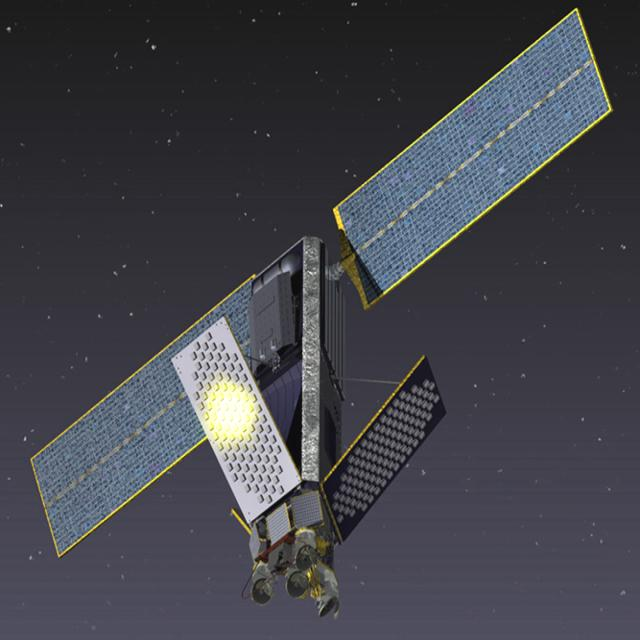medium_debris: (28, 6, 625, 632)
